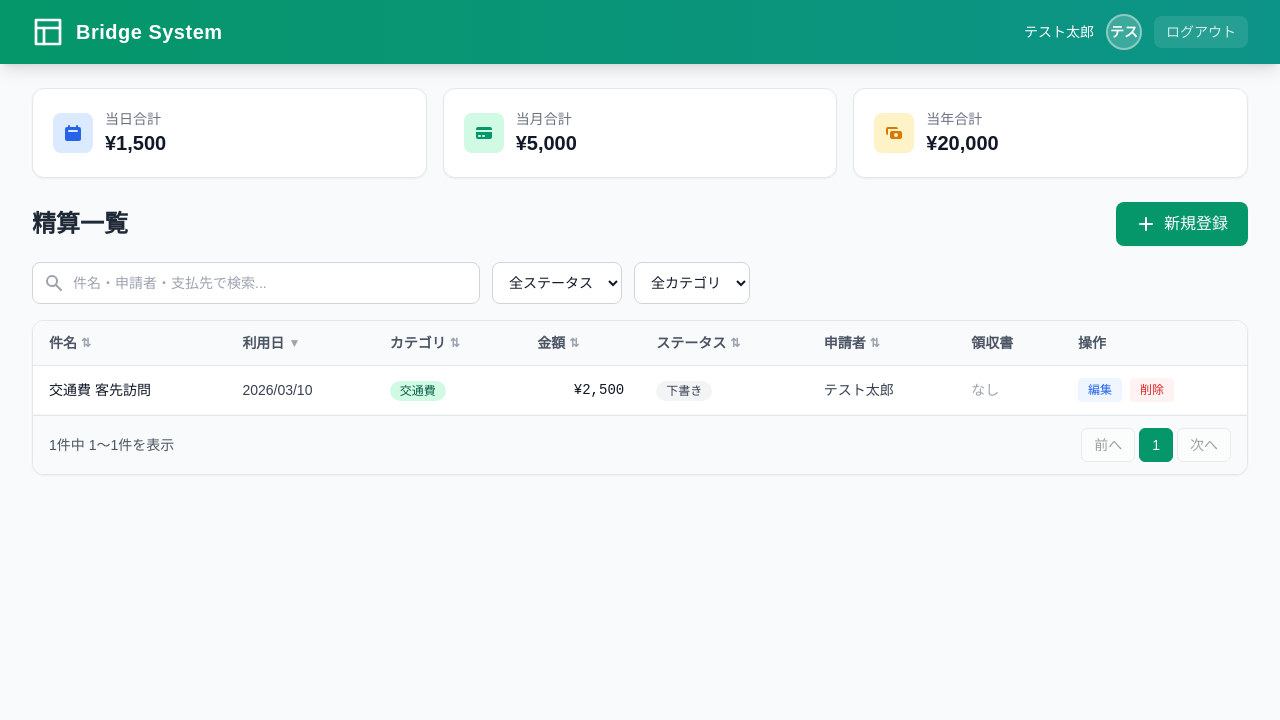
Test: ExpenseList › 編集モーダル › 編集モーダルに既存データがプリセットされる
Click the button "編集". click: (1100, 390)
box: [1078,378,1122,402]
(page scrolled)
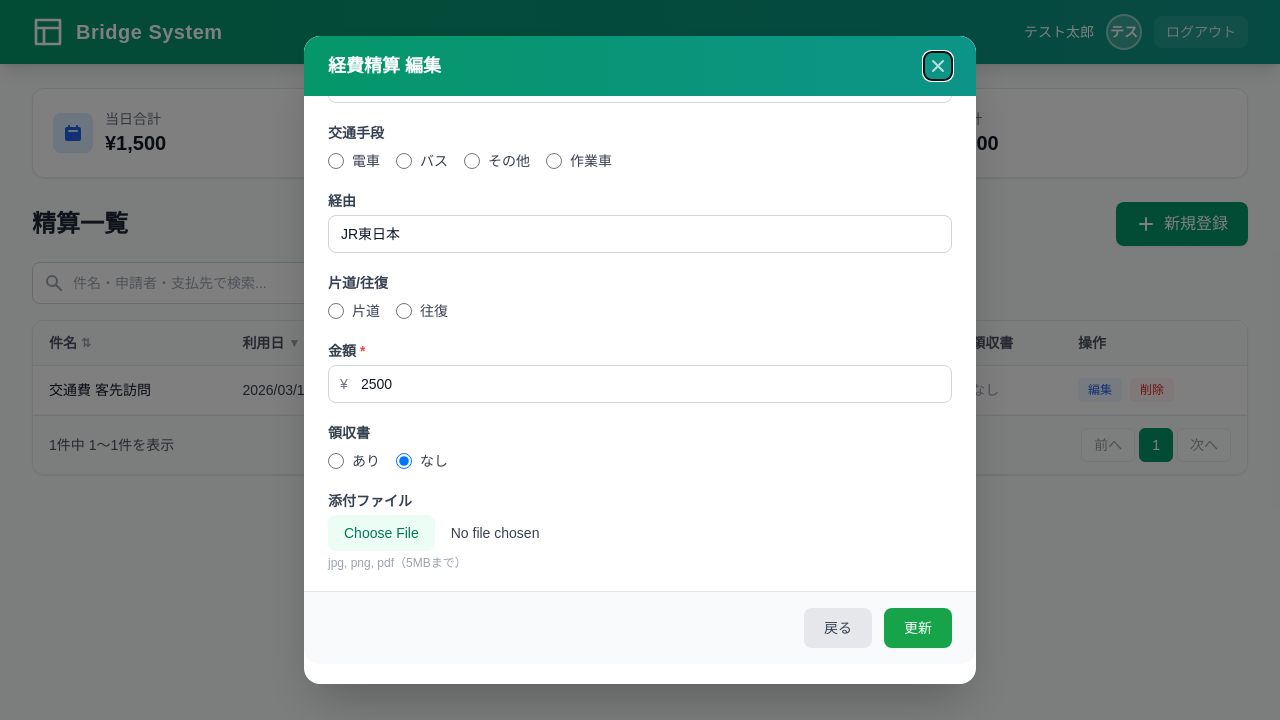
Expected: the field with placeholder "例: 客先訪問のため" holds "テスト詳細", [328,65,952,103]
Expected: the number field with placeholder "0" holds "2500", [328,365,952,403]
